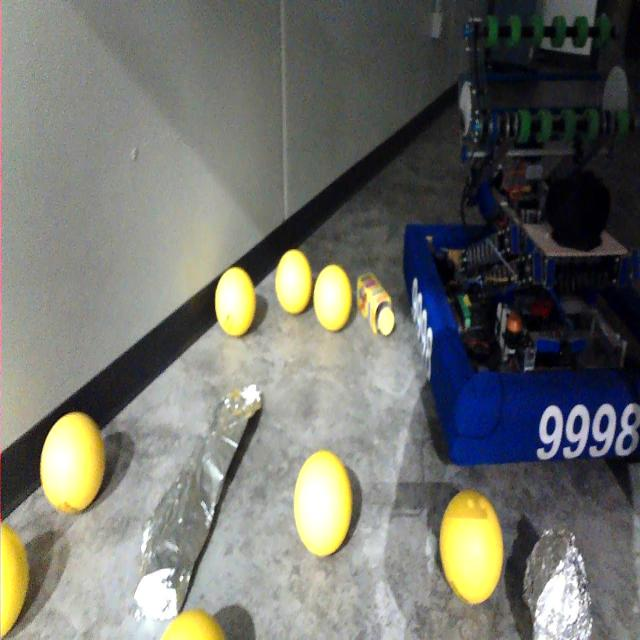Bumper: (389, 207, 640, 477)
fuel: (436, 478, 510, 621), (35, 402, 113, 526), (288, 449, 356, 560), (212, 260, 260, 342), (270, 242, 318, 318), (312, 258, 356, 337), (154, 610, 237, 640)
